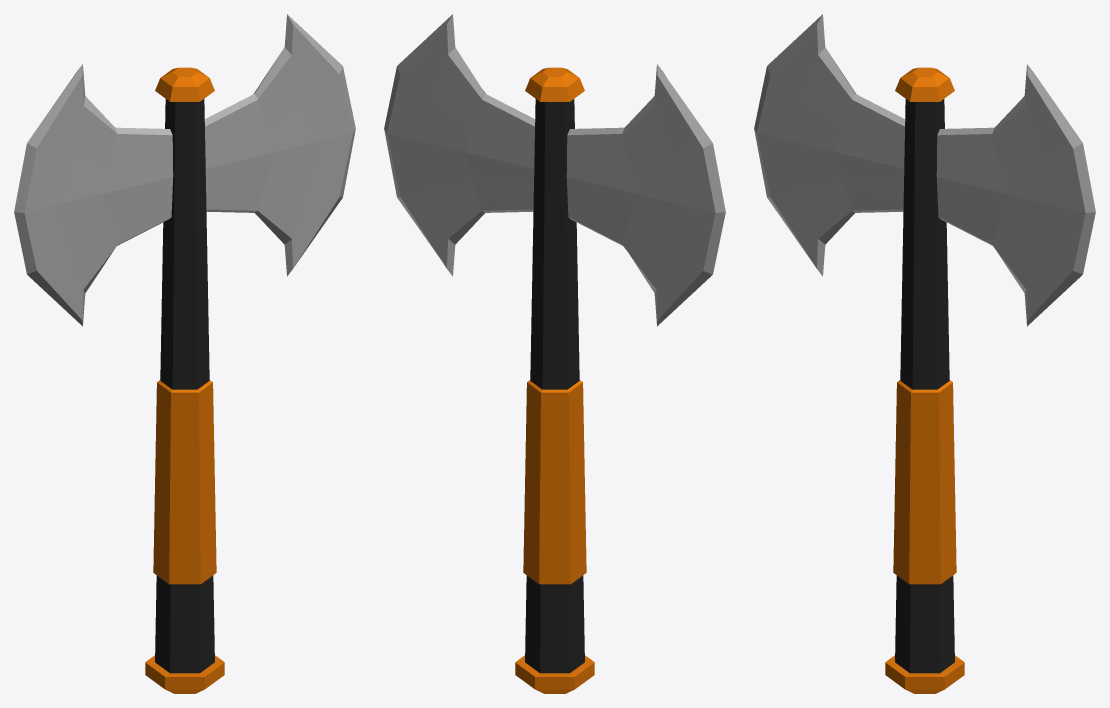
File: Weapon_FM_Great_Axe.glb
The picture shows the model from 3 angles, left to right: view 1: azimuth 30°, elevation 25°; view 2: azimuth 150°, elevation 25°; view 3: azimuth 330°, elevation 25°; orthographic projection.
Visible parts, largest first — view 1: Weapon_Great_Axe; view 2: Weapon_Great_Axe; view 3: Weapon_Great_Axe.
Boxes of the visible parts, x1=… form: Weapon_Great_Axe: x1=14, y1=14, x2=355, y2=693; Weapon_Great_Axe: x1=384, y1=14, x2=725, y2=693; Weapon_Great_Axe: x1=754, y1=14, x2=1095, y2=693.
Size of the model in its own units: 0.7735 by 1.4 by 0.156.
